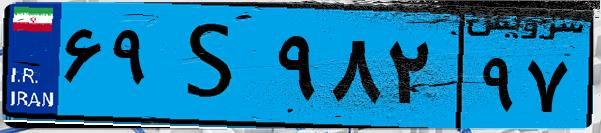2: (385, 28, 445, 110)
6: (57, 26, 110, 100)
7: (525, 38, 570, 115)
8: (330, 28, 385, 110)
9: (270, 28, 330, 110), (475, 38, 525, 113), (110, 28, 158, 98)
S: (158, 12, 270, 120)
